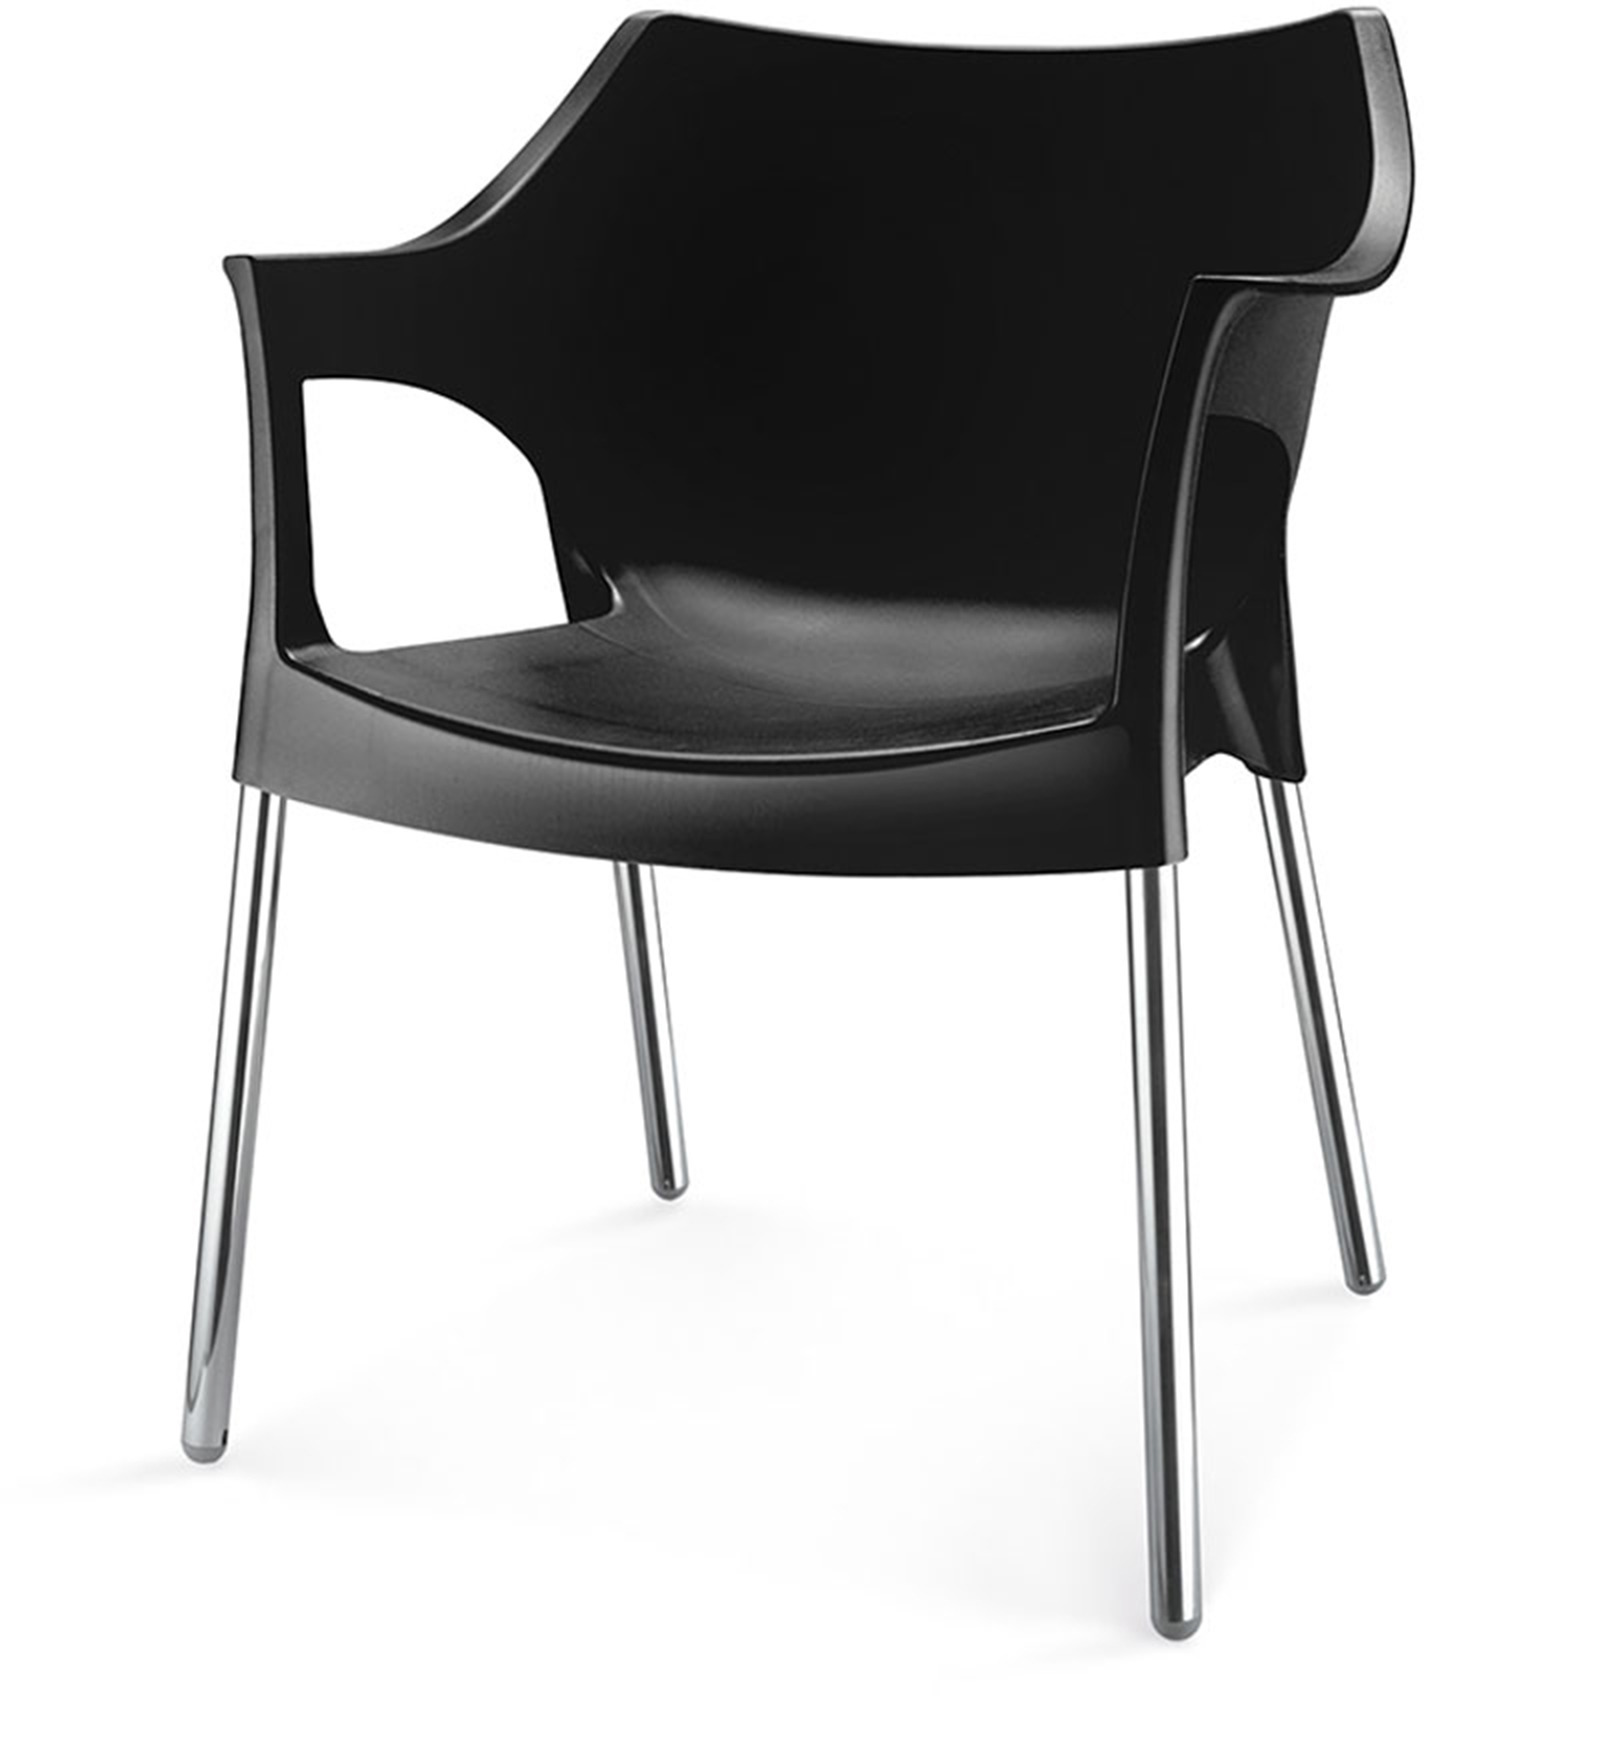Novella Chair in Black Colour by Nilkamal: (153, 8, 1413, 1634)
